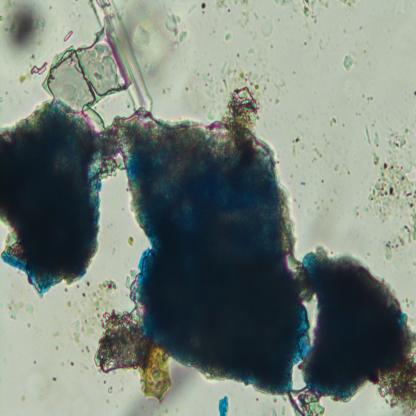Background material: (47, 0, 174, 116), (89, 301, 171, 399), (362, 127, 416, 262), (217, 61, 268, 130), (2, 0, 50, 58), (379, 352, 416, 410), (83, 274, 116, 308), (13, 60, 45, 87), (70, 319, 92, 355), (166, 14, 188, 47), (8, 298, 33, 326), (269, 76, 290, 106), (192, 65, 212, 94), (300, 0, 324, 23), (258, 16, 274, 40), (288, 132, 302, 158), (237, 2, 248, 24), (342, 53, 355, 71), (326, 157, 340, 173), (313, 146, 325, 164), (161, 82, 173, 99), (198, 0, 210, 16), (220, 30, 233, 44), (326, 112, 337, 128), (216, 2, 232, 13), (340, 0, 356, 10), (124, 234, 136, 246), (352, 204, 361, 219)
Fragment: (0, 97, 407, 398), (214, 390, 232, 416)
